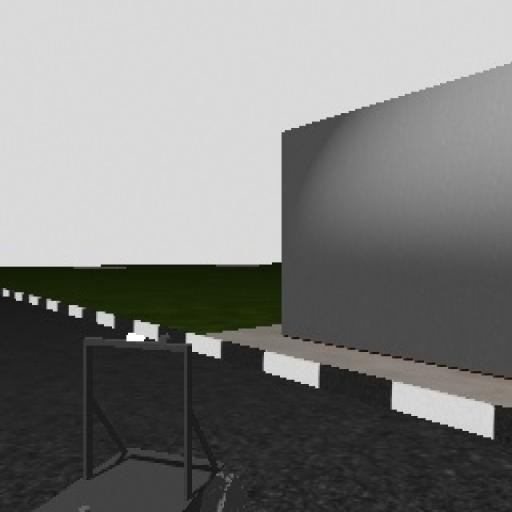huskya200: (65, 324, 245, 512)
